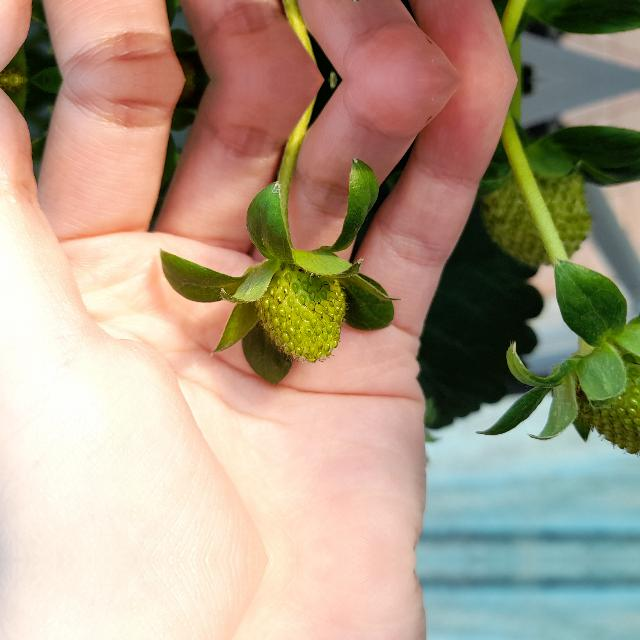Health_25: (254, 261, 346, 363)
